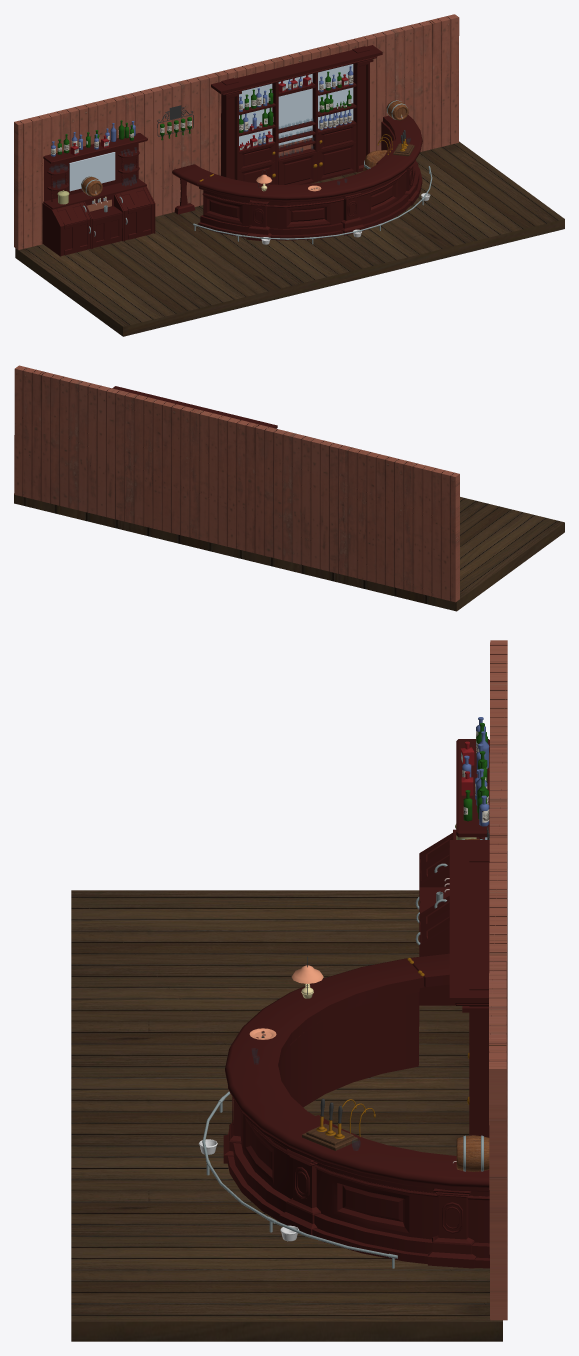
The picture shows the model from 3 angles, top to bottom: view 1: azimuth 30°, elevation 25°; view 2: azimuth 150°, elevation 25°; view 3: azimuth 270°, elevation 25°; orthographic projection. The views are drawn at different scales.
Visible parts, largest first — view 1: Plane.038, Wand.Bar, Cube.045, Circle.011, Circle.012, Plane.007, Plane.035, Plane.009, Circle.007, Plane.024, Plane, Plane.025 (+10 smaller); view 2: Wand.Bar, Plane.038, Cube.045; view 3: Plane.038, Circle.011, Circle.012, Wand.Bar, Cube.045, Circle.007, Plane.024, Circle.018, Cube.061, Cylinder.044, Circle.014, Plane.035 (+1 smaller).
Boxes of the visible parts, left/top/right/bottom form: Plane.038: left=15, top=141, right=564, bottom=336; Wand.Bar: left=14, top=14, right=459, bottom=249; Cube.045: left=211, top=45, right=382, bottom=184; Circle.011: left=198, top=121, right=422, bottom=240; Circle.012: left=172, top=115, right=422, bottom=200; Plane.007: left=239, top=64, right=353, bottom=146; Plane.035: left=42, top=202, right=91, bottom=256; Plane.009: left=318, top=125, right=356, bottom=181; Circle.007: left=246, top=160, right=418, bottom=240; Plane.024: left=115, top=186, right=155, bottom=240; Plane: left=44, top=143, right=138, bottom=201; Plane.025: left=69, top=152, right=115, bottom=191; Wand.Bar: left=14, top=365, right=459, bottom=602; Plane.038: left=14, top=493, right=564, bottom=611; Cube.045: left=112, top=386, right=277, bottom=428; Plane.038: left=71, top=890, right=502, bottom=1341; Circle.011: left=227, top=988, right=489, bottom=1268; Circle.012: left=225, top=953, right=489, bottom=1187; Wand.Bar: left=489, top=640, right=507, bottom=1320; Cube.045: left=449, top=840, right=489, bottom=1137; Circle.007: left=223, top=1086, right=476, bottom=1268; Plane.024: left=419, top=897, right=455, bottom=1005; Circle.018: left=462, top=717, right=489, bottom=826; Cube.061: left=456, top=739, right=489, bottom=837; Cylinder.044: left=453, top=1135, right=489, bottom=1171; Circle.014: left=202, top=1091, right=397, bottom=1268; Plane.035: left=419, top=833, right=453, bottom=883.
Size of the model in its own units: 1670 by 489 by 714.
23 materials, 7 textured.
